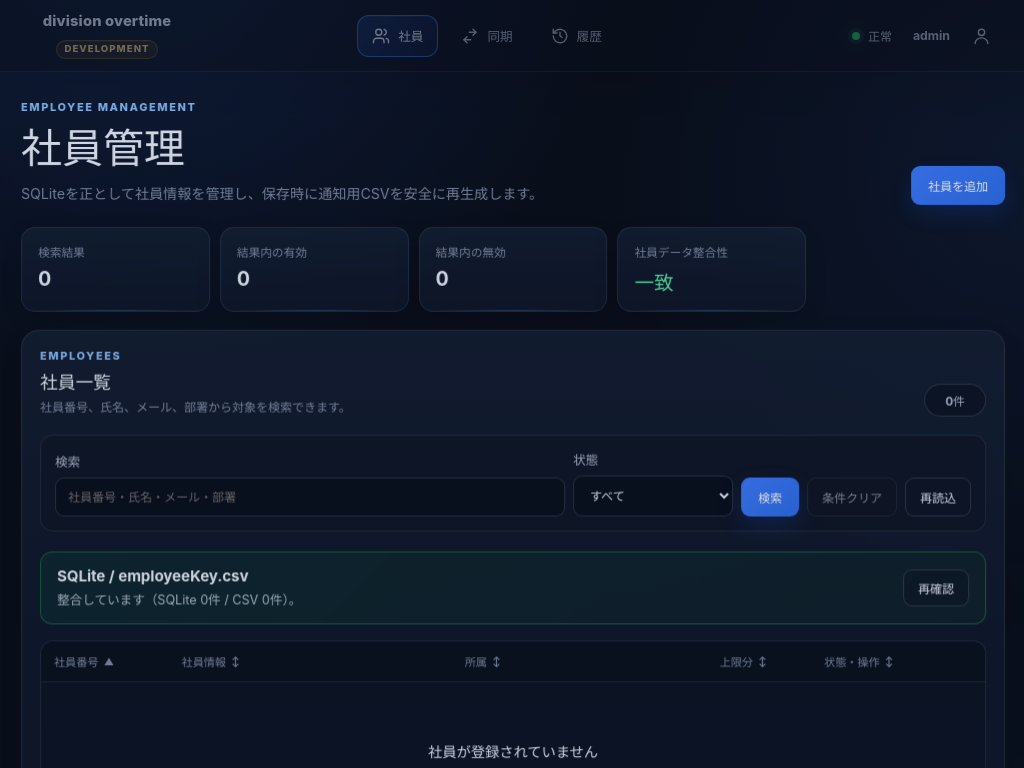
Test case: App › ヘッダーからシステム状態とログアウトメニューを開ける
Expected: the text "DEVELOPMENT" is shown, [56,40,158,59]
Click the button "正常": x=872, y=36 [841,16,903,54]
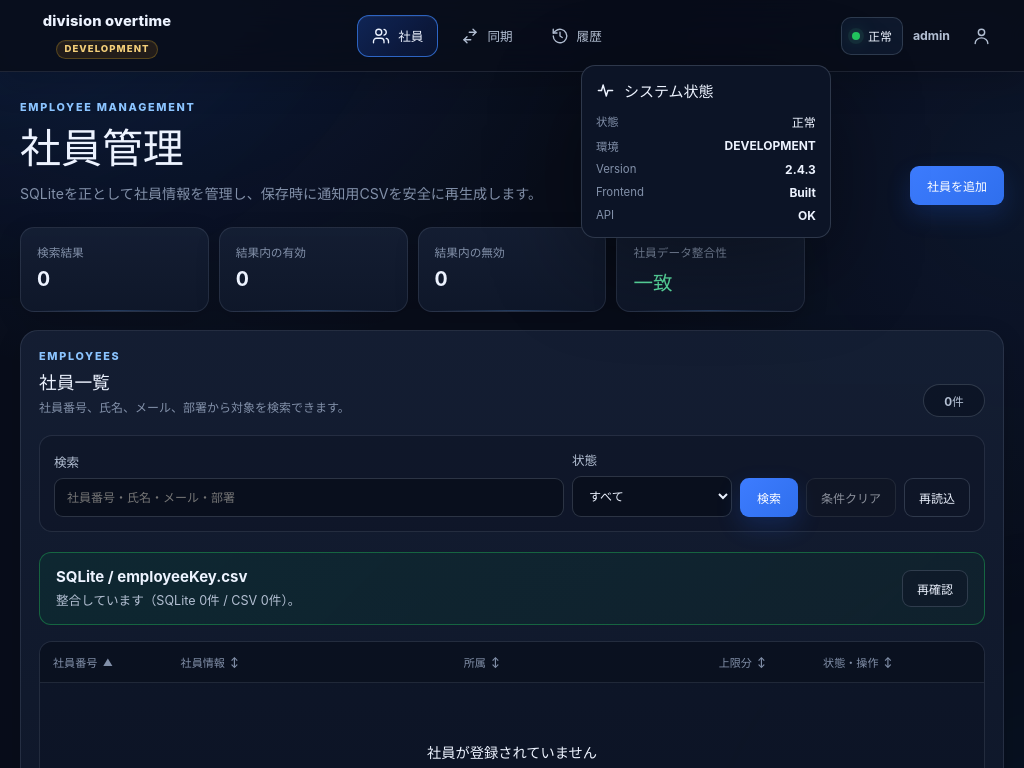
Expected: the dialog "システム状態" is shown, [581,64,831,238]
Click the button named "アカウントメニュー": x=981, y=36 [960,14,1002,56]
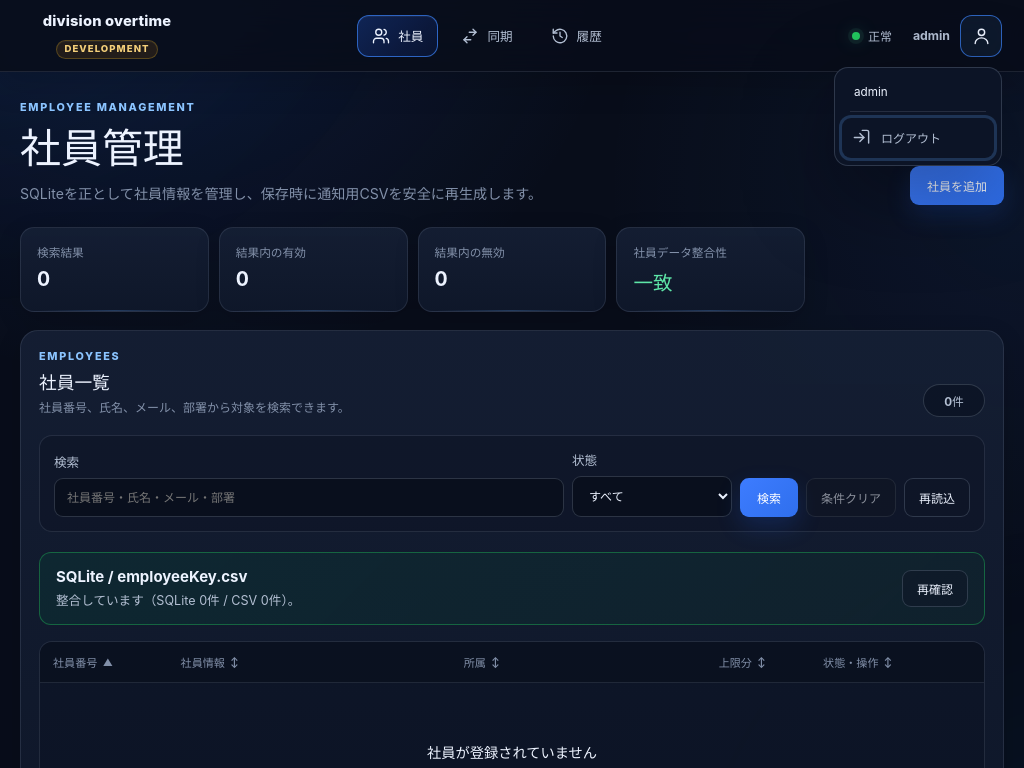
Expected: the text "システム状態" is gone
Expected: the menu item "ログアウト" is shown
Press the mouse on the menu item "ログアウト": x=918, y=138 [842,118,994,158]
Expected: the menu item "ログアウト" is shown
Click the menu item "ログアウト": x=918, y=138 [842,118,994,158]
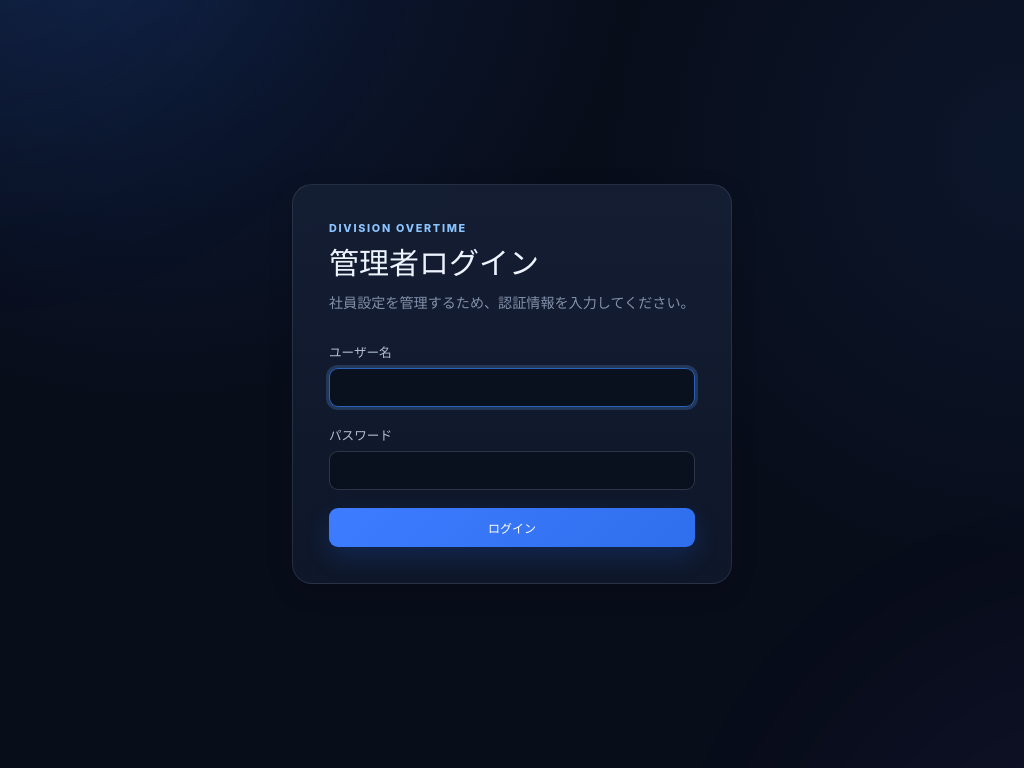
Expected: the heading "管理者ログイン" is shown, [329,244,539,280]
